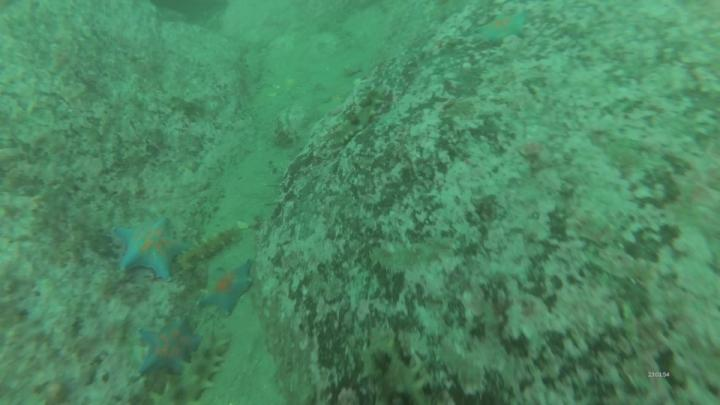holothurian: (185, 331, 226, 396), (183, 228, 240, 264), (371, 245, 434, 272), (246, 49, 264, 81)
starfish: (119, 218, 188, 281), (141, 323, 200, 372), (209, 262, 254, 314), (484, 18, 526, 40)
